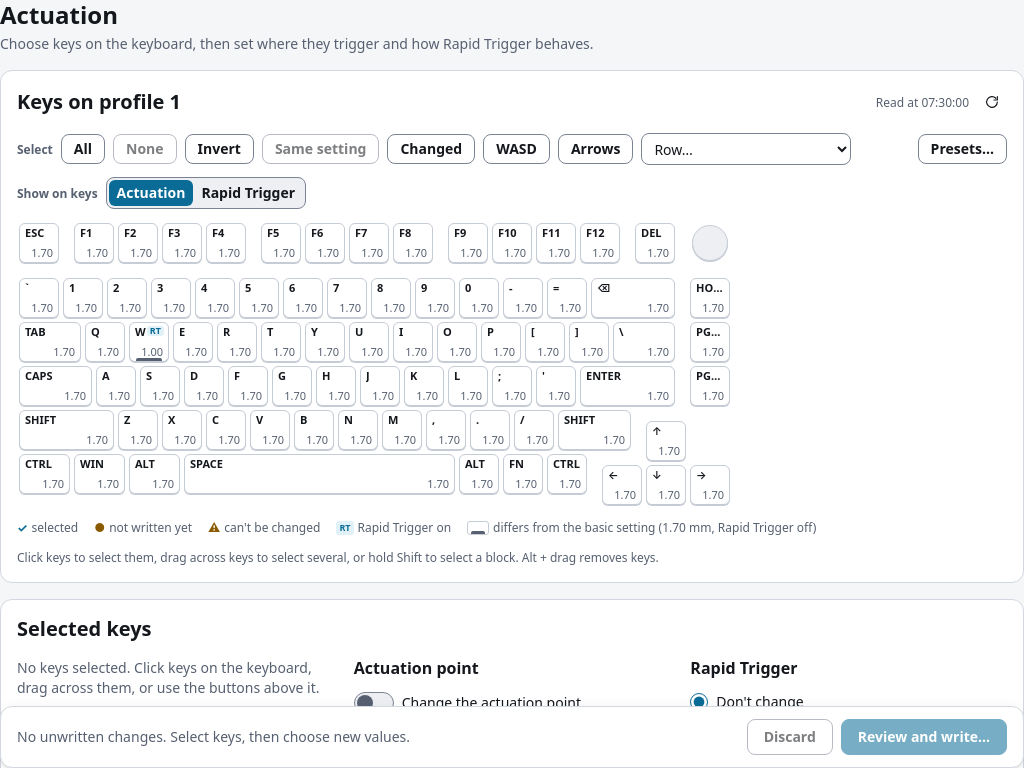
the presets menu › explains a preset the backend refuses for this keyboard (never clamped)
Click the button "Presets…" at (962, 149), box top-left (918, 134), bottom-right (1007, 164)
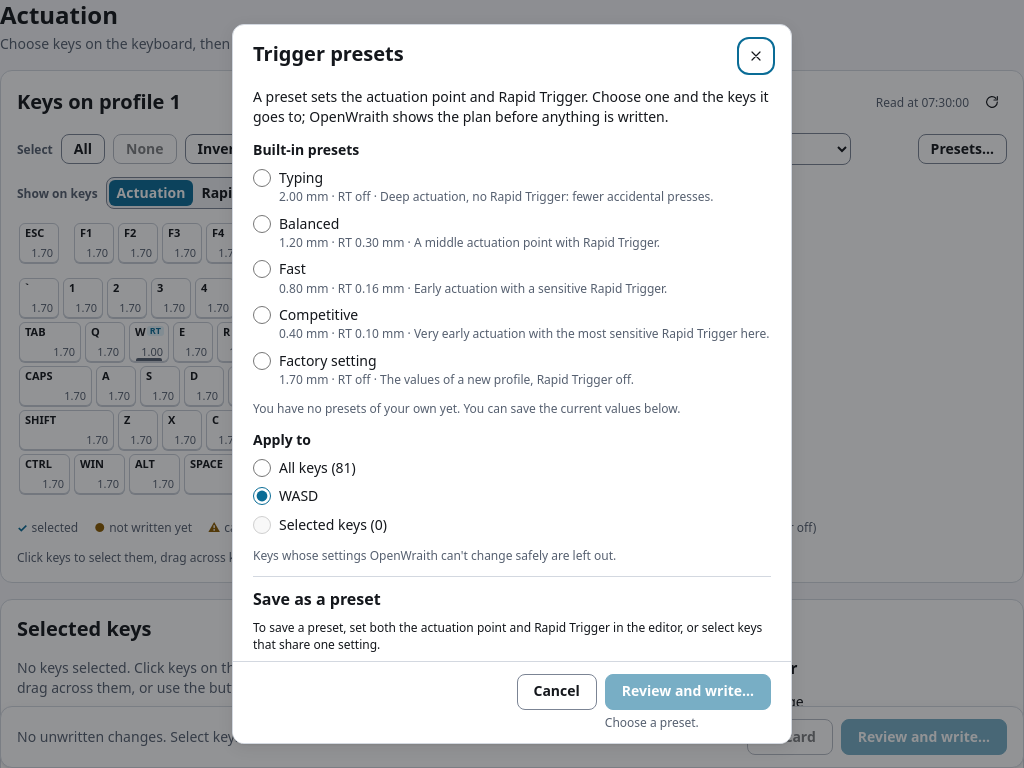
Now the radio button labelled "Typing" is shown
Click the radio button labelled "Typing" at (262, 178), box top-left (253, 169), bottom-right (271, 187)
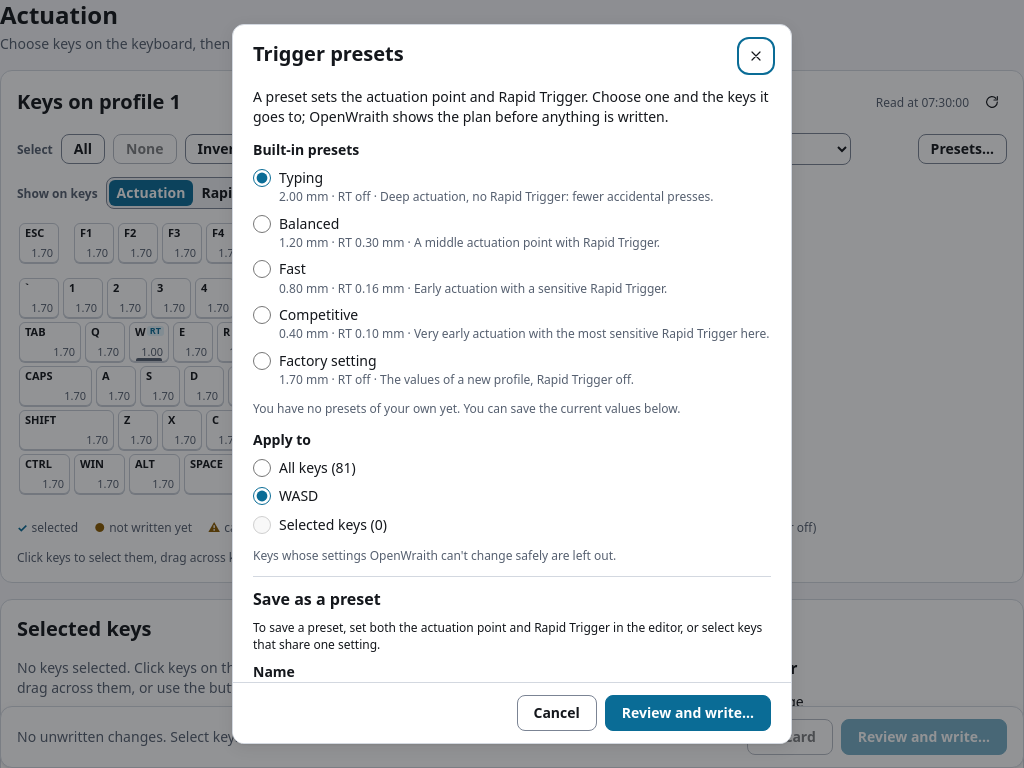
Click the button "Review and write…" at (688, 713), box top-left (605, 695), bottom-right (771, 731)
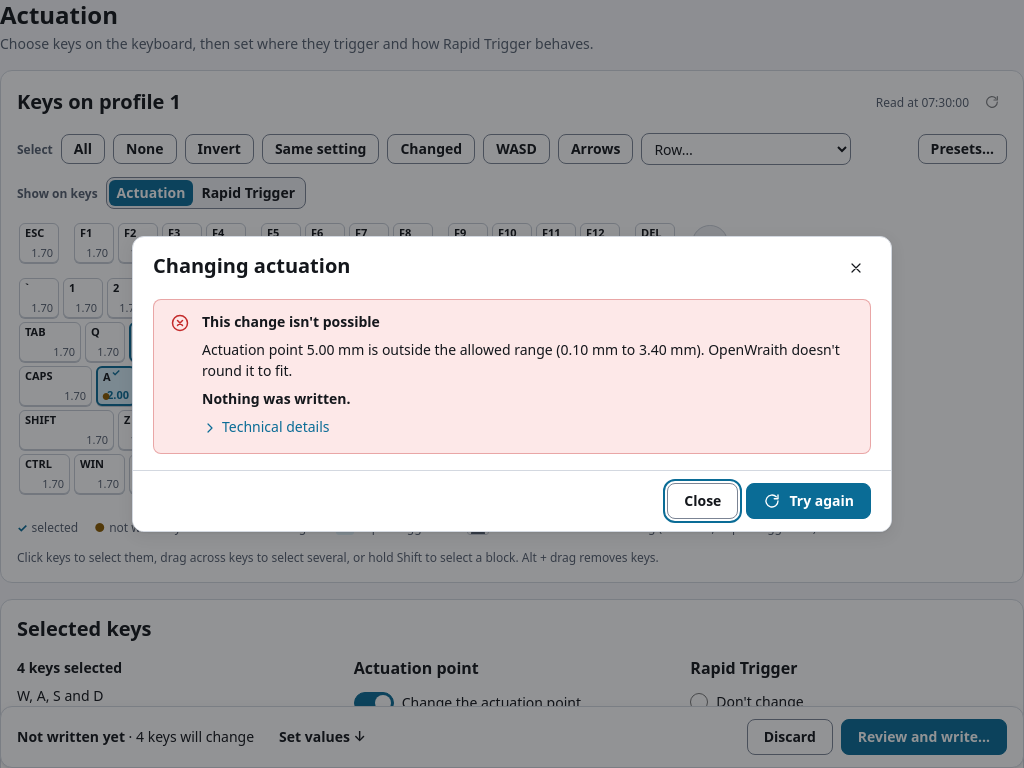
Now the text "Nothing was written." is shown, box top-left (202, 389), bottom-right (351, 408)
